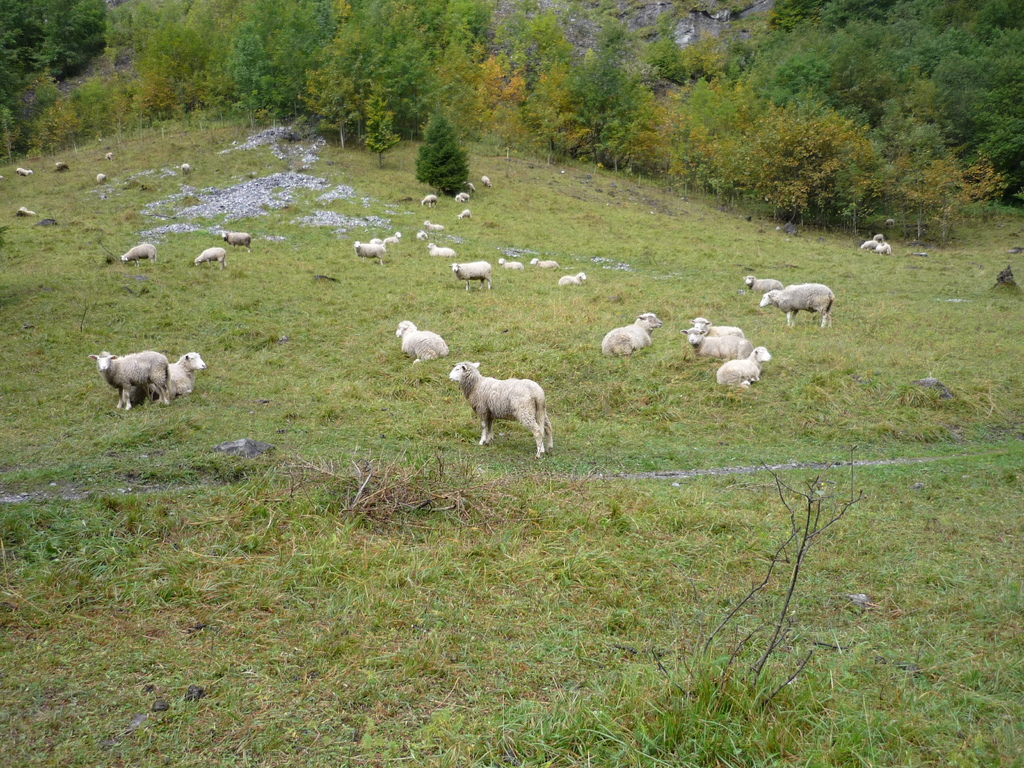sheep: (143, 343, 212, 398)
